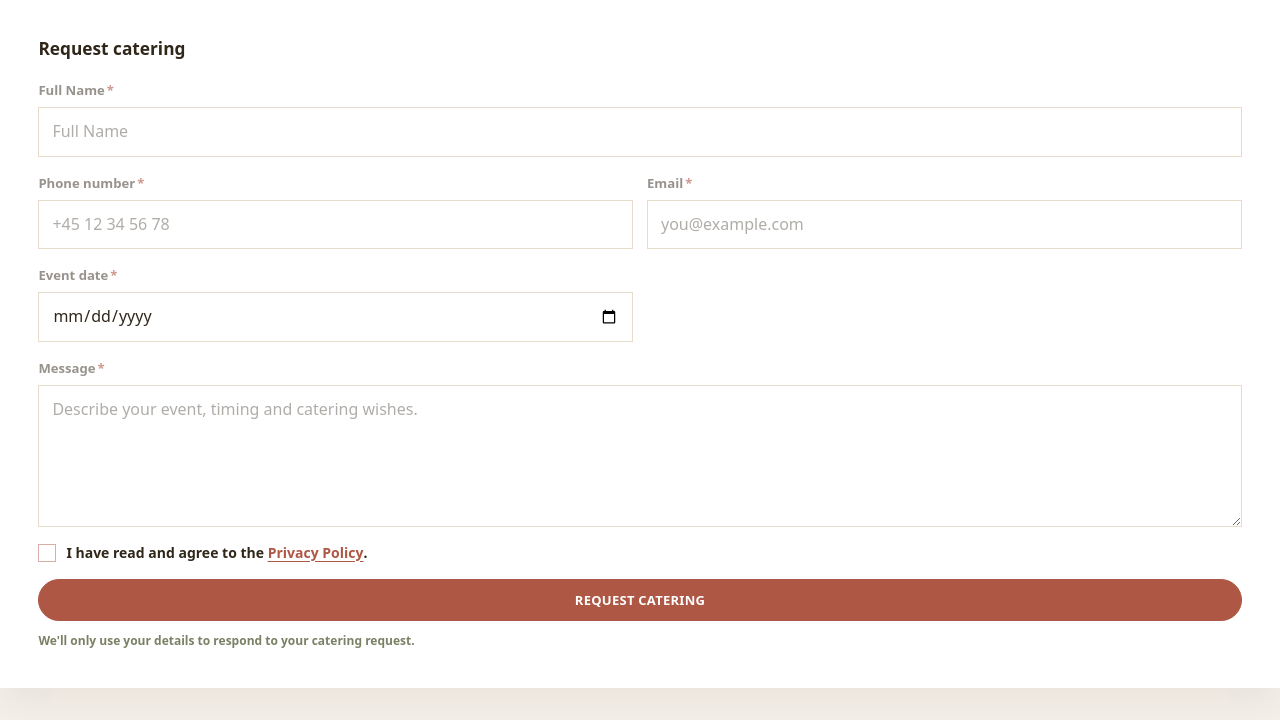
CateringInquiryForm — unified Formspree delivery › submits through submitToFormspree with the Catering form_name + standardized subject + fields + locale, and shows an accessible success MODAL (not an inline ban
Step 1. Type "Sofia Berg" into the field labelled "Full Name*" → x=640, y=132, box [38,107,1242,156]
Step 2. Type "+45 55 55 55 55" into the field labelled "Phone number*" → x=336, y=224, box [38,200,633,249]
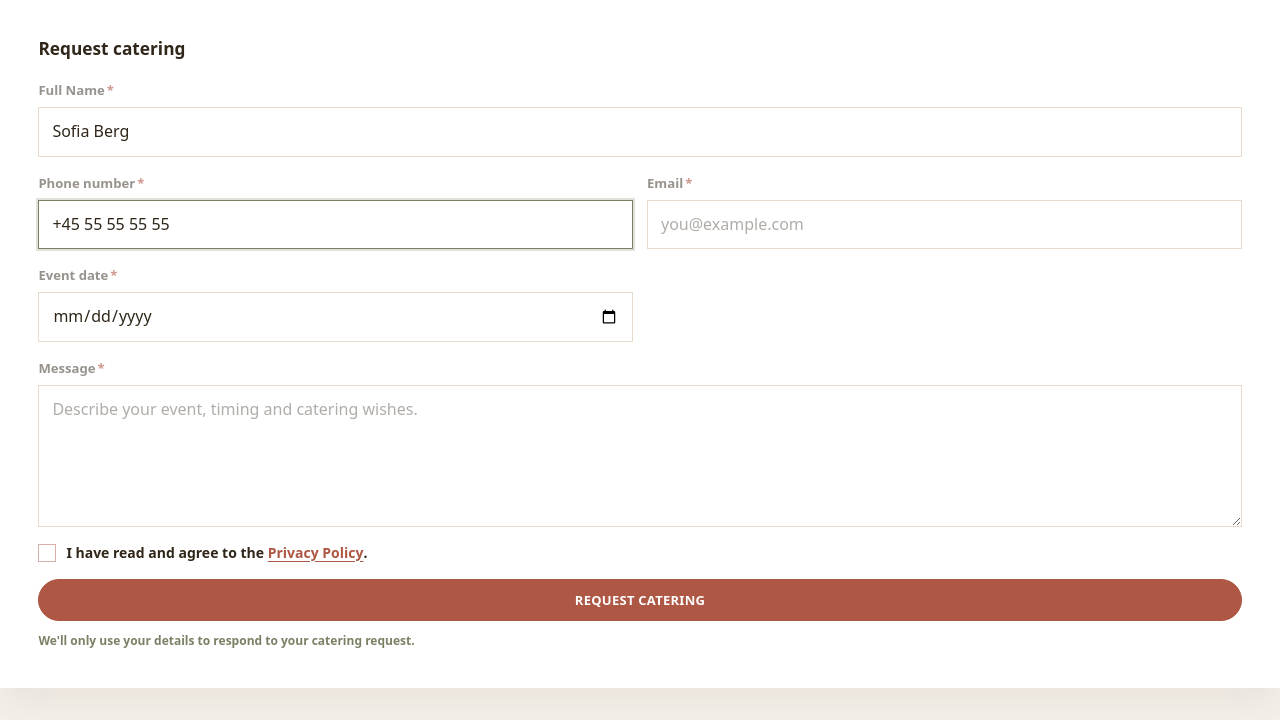
Step 3. Type "sofia@example.com" into the field labelled "Email*" → x=944, y=224, box [647,200,1242,249]
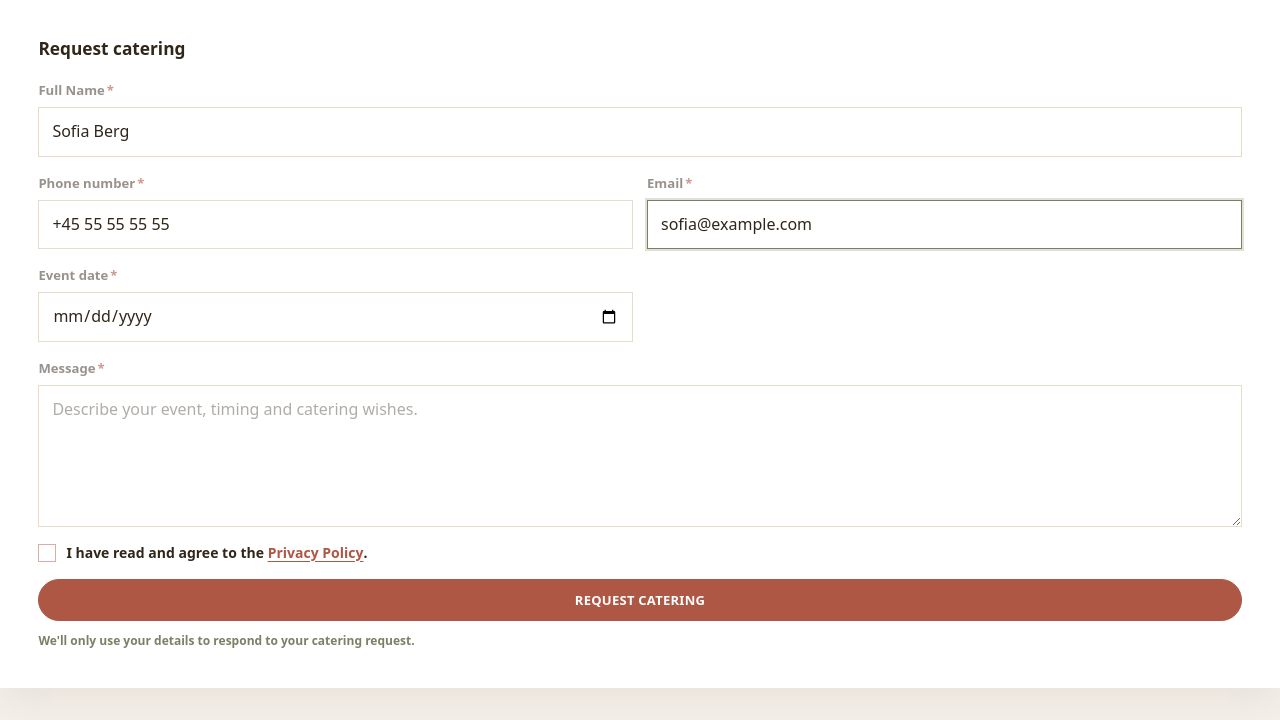
Step 4. Type "2099-05-01" into the date field labelled "Event date*" → x=336, y=317, box [38,292,633,342]
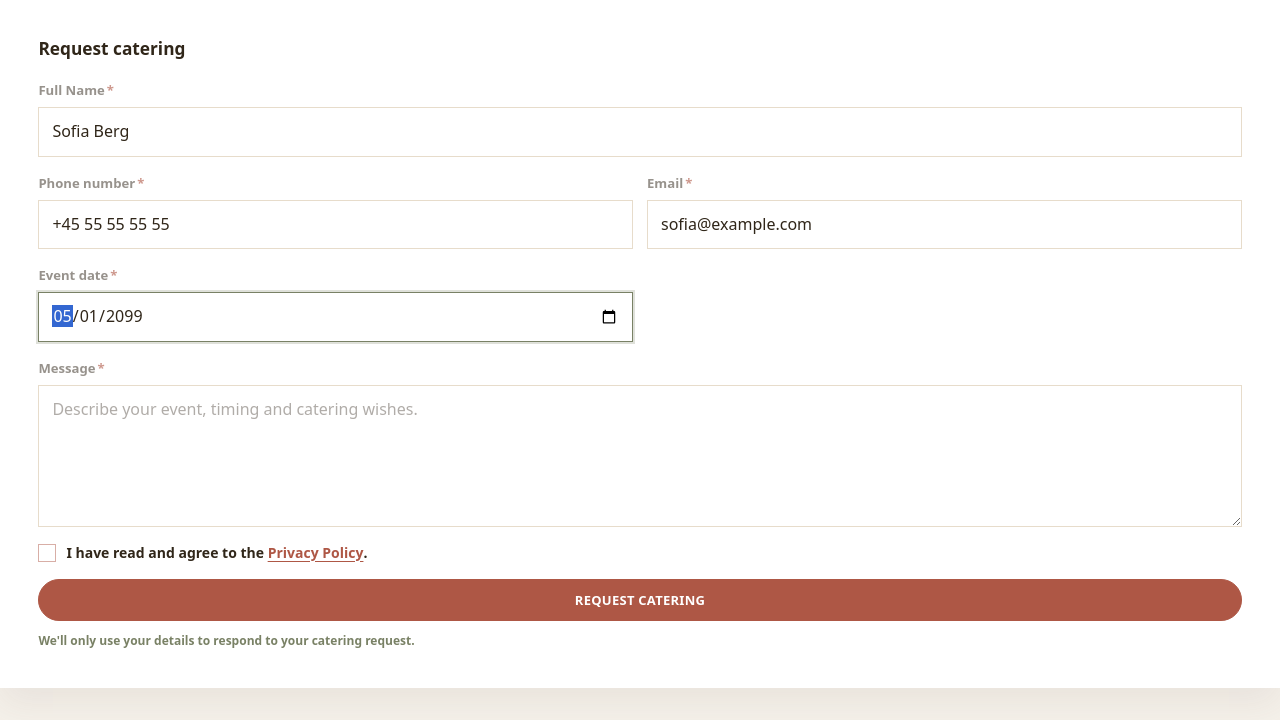
Step 5. Type "Lunch for 30 people" into the text box labelled "Message*" → x=640, y=456, box [38,385,1242,527]
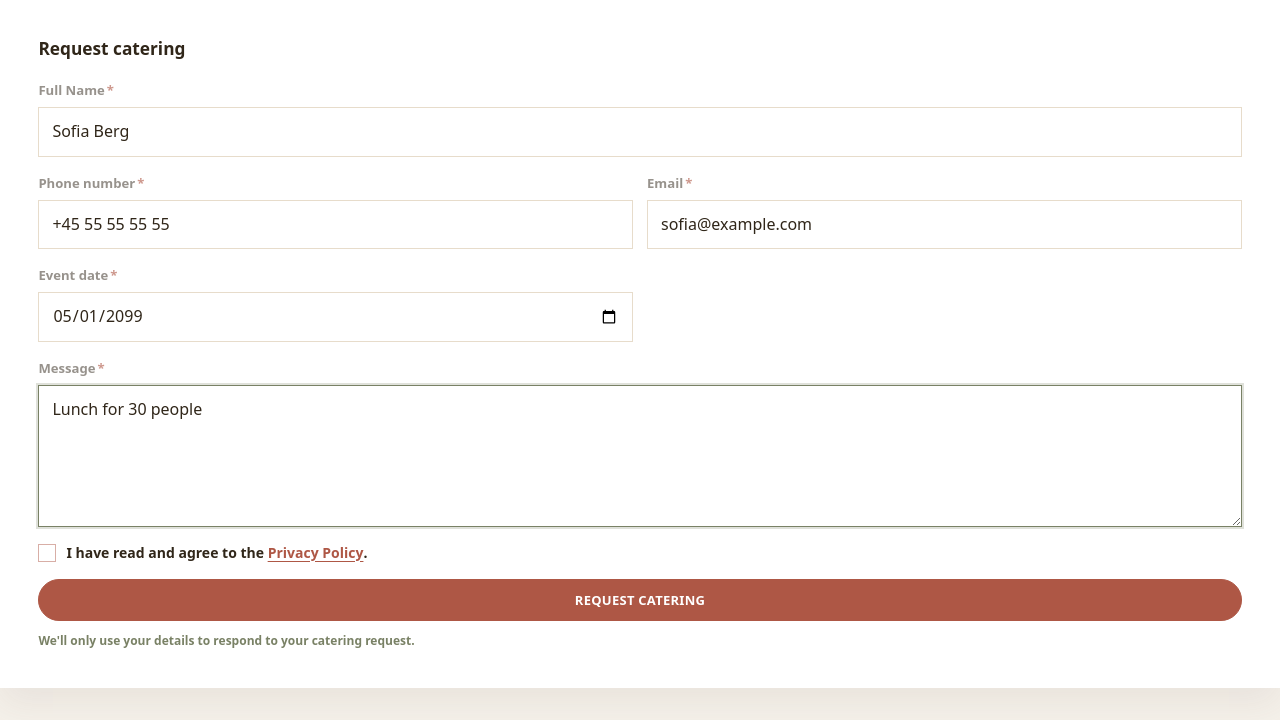
Step 6. Click the checkbox → x=47, y=553, box [38,544,56,562]
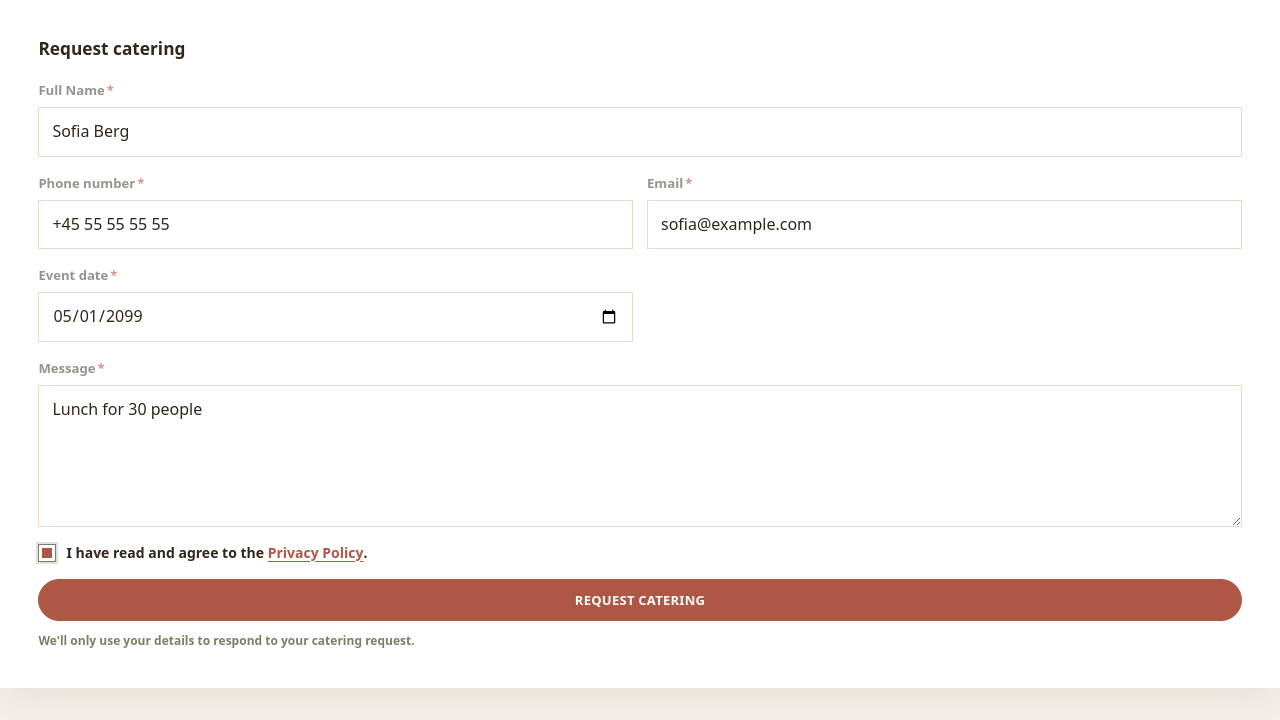
Step 7. Click the button "Request Catering" → x=640, y=600, box [38,579,1242,621]
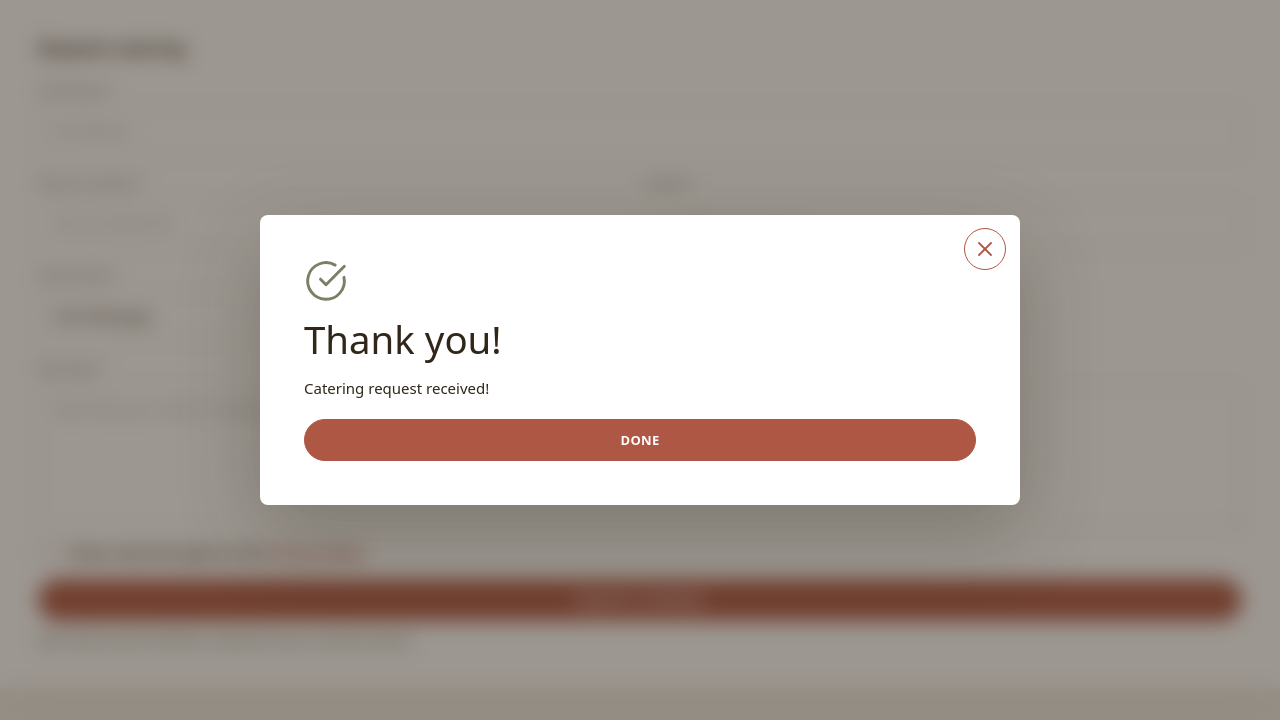
Check: the text "Catering request received!" is shown, box [304,378,489,398]
Check: the button "Done" is shown, box [304,419,976,461]
